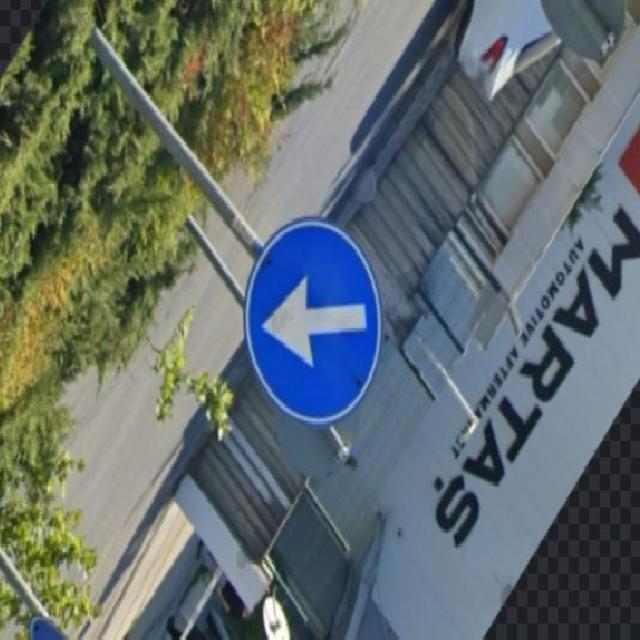Turn Left: (244, 217, 380, 429)
